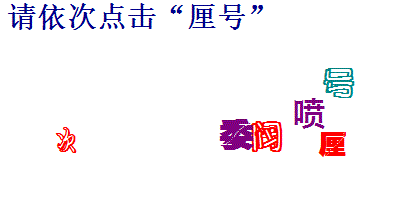text: (219, 118, 255, 152), (250, 120, 284, 155), (321, 66, 355, 99), (293, 96, 326, 130), (319, 130, 348, 159), (55, 126, 78, 155)
